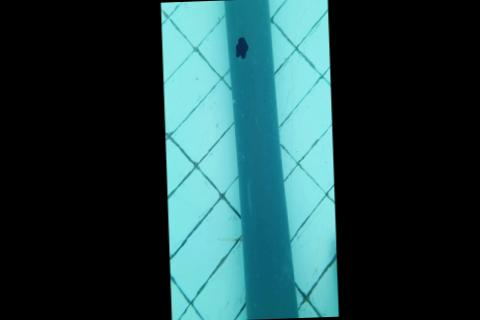kebocoran: (235, 36, 250, 60)
